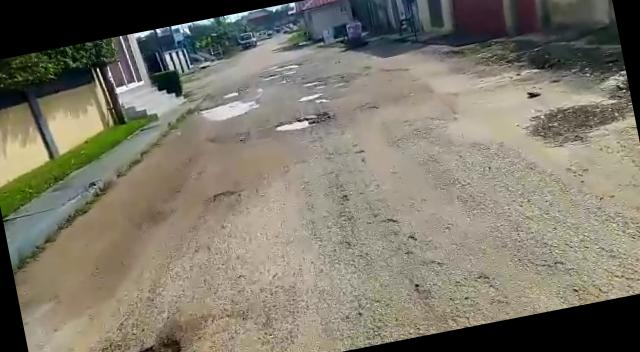pothole: (199, 94, 257, 123), (103, 336, 193, 352), (264, 112, 324, 135), (301, 74, 332, 88), (299, 92, 328, 103)
